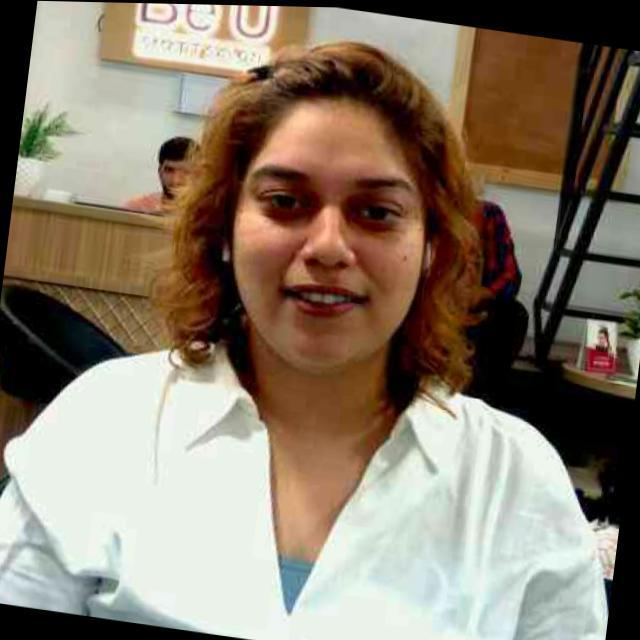puffy_eyes: (263, 196, 314, 222), (348, 208, 394, 233)
